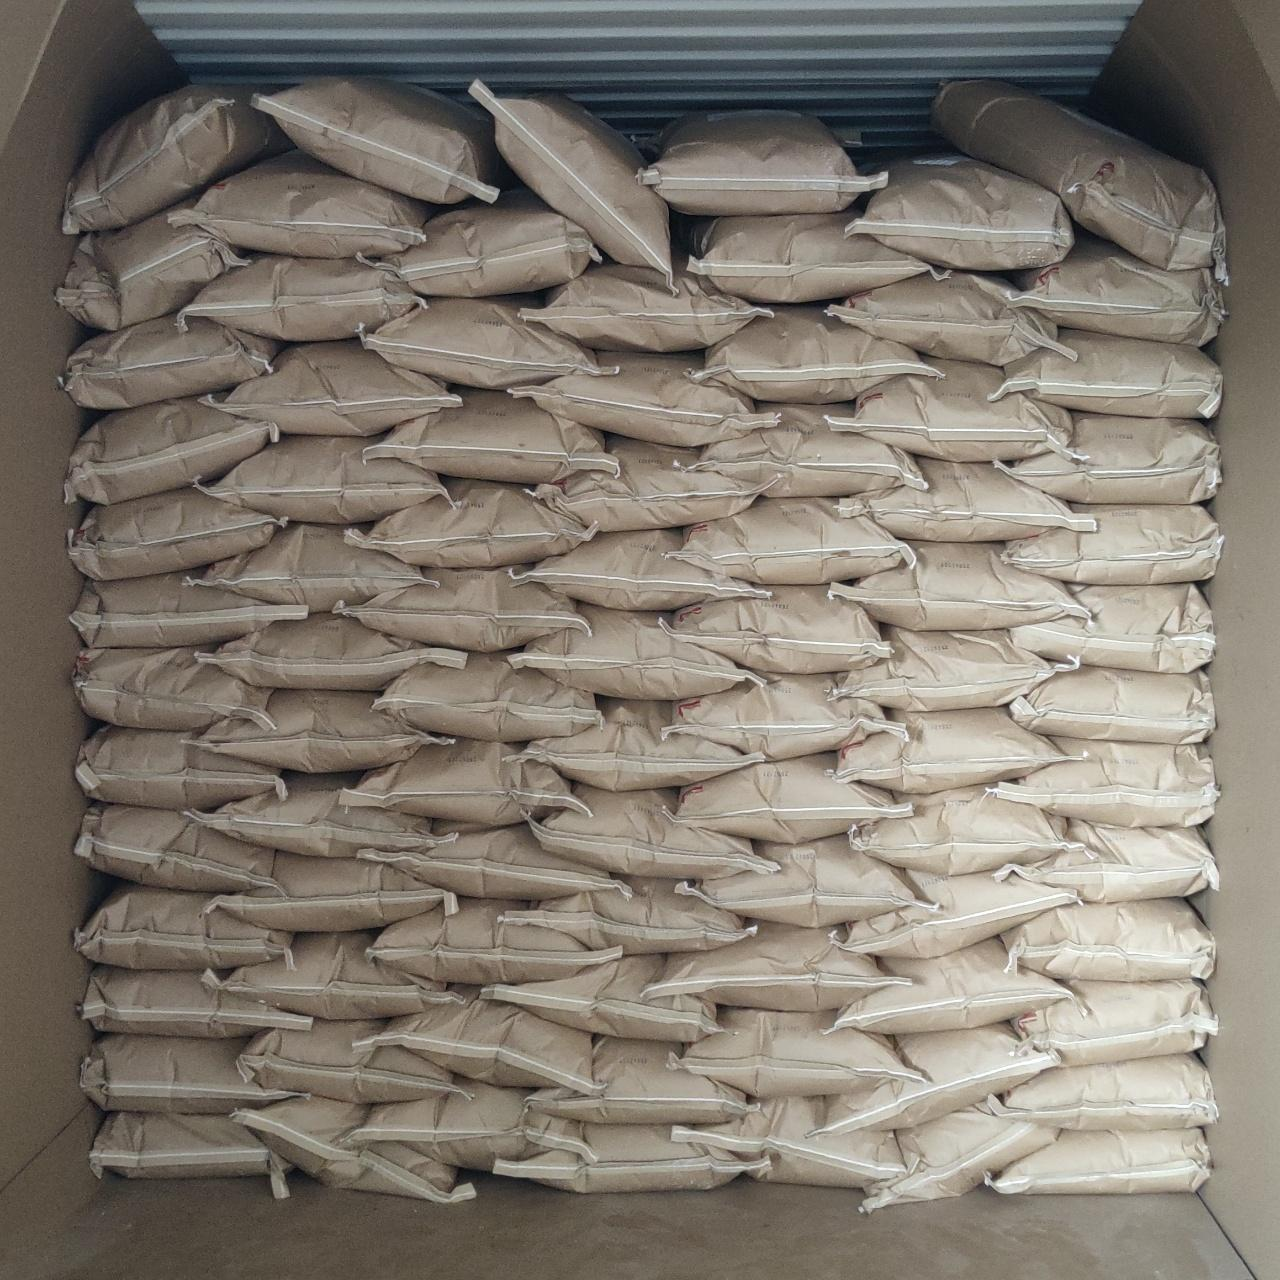sack: (932, 81, 1223, 270), (471, 80, 672, 288), (62, 86, 290, 232), (251, 76, 499, 203), (808, 1022, 1060, 1139), (166, 150, 435, 259), (828, 361, 1097, 464), (358, 188, 602, 297), (229, 1097, 475, 1203), (847, 156, 1073, 270), (508, 352, 778, 445), (352, 992, 600, 1094), (641, 113, 886, 216), (200, 340, 459, 436), (509, 605, 767, 700), (1009, 234, 1225, 346), (363, 388, 618, 482), (642, 922, 908, 1012), (55, 212, 253, 331), (828, 272, 1077, 366), (694, 306, 937, 402), (529, 787, 779, 879), (338, 1081, 599, 1169), (688, 207, 930, 302), (829, 542, 1088, 629), (64, 396, 278, 503), (345, 477, 593, 568), (192, 435, 447, 524), (670, 1008, 921, 1098), (200, 932, 461, 1019), (339, 738, 592, 828), (183, 523, 438, 611), (367, 897, 622, 985), (363, 299, 618, 387), (185, 689, 454, 772), (831, 867, 1076, 958), (835, 940, 1070, 1034), (520, 264, 771, 352), (526, 436, 758, 531), (689, 403, 927, 496), (675, 836, 915, 927), (173, 256, 424, 342), (667, 497, 914, 585), (522, 701, 764, 790), (334, 567, 588, 652), (675, 753, 912, 843), (186, 777, 457, 856), (835, 625, 1080, 712), (670, 1097, 905, 1187), (862, 1107, 1058, 1213), (358, 823, 632, 899), (838, 462, 1098, 542), (527, 1039, 769, 1124), (513, 530, 772, 610), (987, 738, 1218, 828), (67, 486, 286, 580), (656, 586, 890, 674), (59, 315, 282, 407), (987, 332, 1221, 418), (662, 678, 908, 760), (204, 852, 458, 931), (75, 802, 285, 897), (481, 958, 719, 1041), (835, 708, 1065, 794), (852, 787, 1076, 874), (200, 615, 467, 689), (996, 418, 1220, 504), (503, 877, 753, 953), (993, 819, 1218, 903), (493, 1124, 769, 1192), (372, 659, 600, 740), (75, 885, 294, 968), (81, 1034, 308, 1114), (976, 1055, 1218, 1130), (237, 1019, 457, 1101), (1012, 584, 1214, 672), (75, 726, 287, 809), (1012, 980, 1217, 1065), (1000, 899, 1216, 980), (89, 1112, 290, 1199), (81, 966, 314, 1039), (1001, 506, 1223, 583), (69, 576, 308, 646), (72, 648, 274, 730), (1009, 666, 1214, 744), (986, 1128, 1208, 1193)
